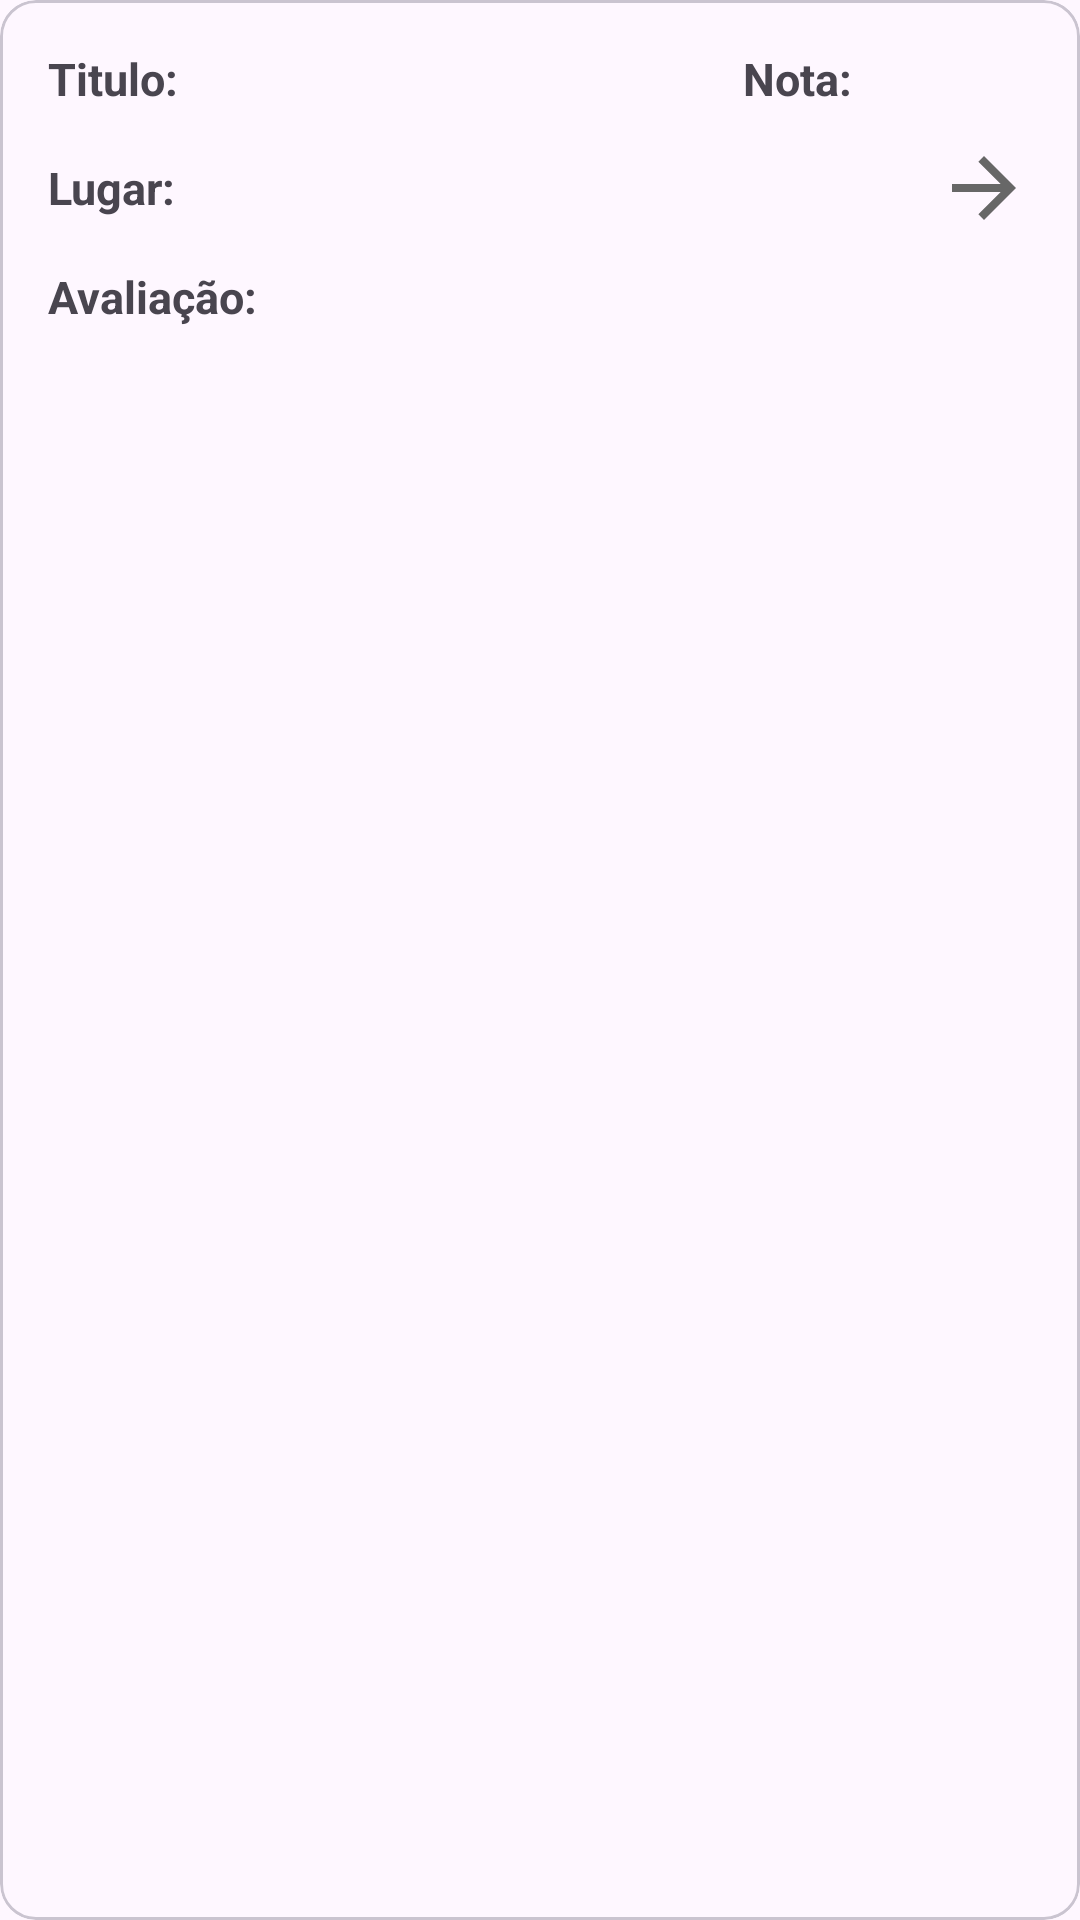

Icons on this 1080px×1920px Android screen, each with its box as (x1, y1, x2, y2):
arrow forward: (952, 156, 1016, 220)
